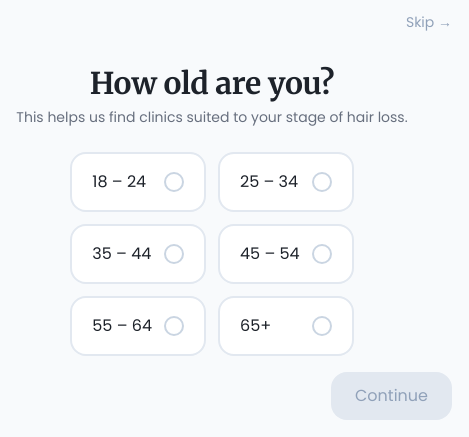
Scenario: GetStarted › Continue is enabled after selecting an age
The width and height of the screenshot is (469, 437).
Click the button "18 – 24". click: (138, 182)
box: [70, 152, 206, 212]
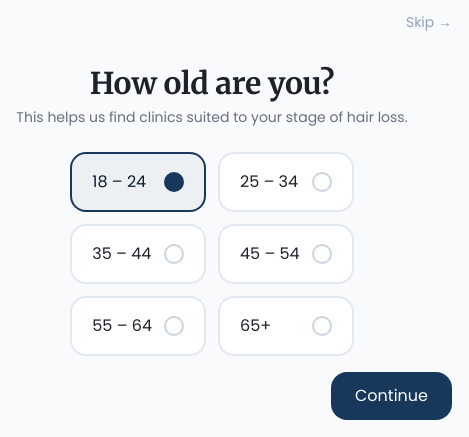
Result: the button "Continue" is enabled at [331, 372, 452, 420]
